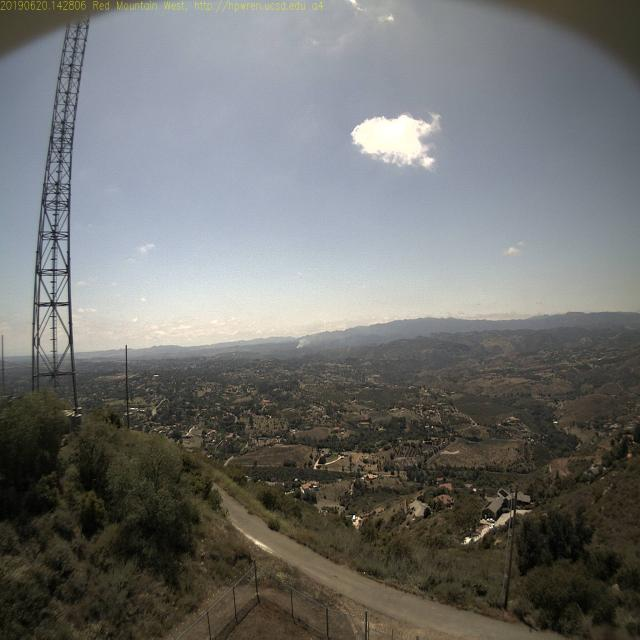smoke: (294, 337, 309, 353)
